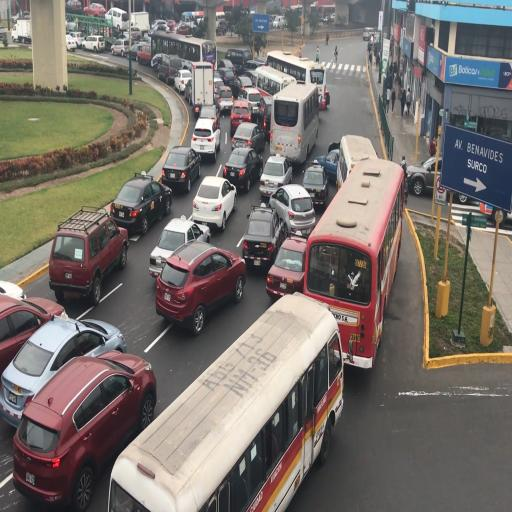auto: (13, 351, 155, 511), (1, 310, 127, 426), (154, 239, 247, 332), (48, 204, 128, 304), (110, 172, 170, 237), (148, 216, 209, 278), (407, 154, 482, 201), (241, 203, 285, 271), (266, 234, 309, 299), (270, 181, 315, 239), (191, 176, 235, 232), (158, 144, 202, 194), (48, 232, 82, 292), (222, 145, 262, 193), (259, 152, 293, 200), (299, 162, 329, 212), (190, 114, 221, 161), (230, 121, 264, 155), (229, 96, 254, 133), (156, 52, 183, 85), (485, 196, 511, 225), (196, 103, 220, 134), (256, 93, 273, 135), (232, 74, 255, 105), (224, 48, 252, 72), (215, 58, 237, 88), (214, 84, 233, 116), (0, 278, 26, 301), (106, 6, 128, 32), (174, 69, 192, 95), (136, 43, 155, 67), (81, 34, 105, 52), (110, 37, 132, 56), (242, 59, 263, 77), (121, 25, 143, 41), (83, 2, 106, 17), (66, 31, 85, 49), (65, 0, 82, 14), (150, 19, 169, 31), (150, 52, 164, 68), (65, 15, 77, 33), (272, 15, 286, 30), (174, 23, 190, 36), (216, 20, 229, 36), (251, 58, 268, 68), (11, 23, 18, 42), (0, 24, 7, 40), (363, 28, 372, 40), (319, 14, 328, 25), (326, 13, 335, 24)
bus: (110, 296, 332, 506), (299, 153, 398, 362), (270, 80, 318, 166), (266, 48, 326, 112), (338, 133, 381, 195), (251, 64, 295, 106), (14, 16, 32, 44), (181, 10, 202, 28)
moto: (400, 156, 409, 200)
